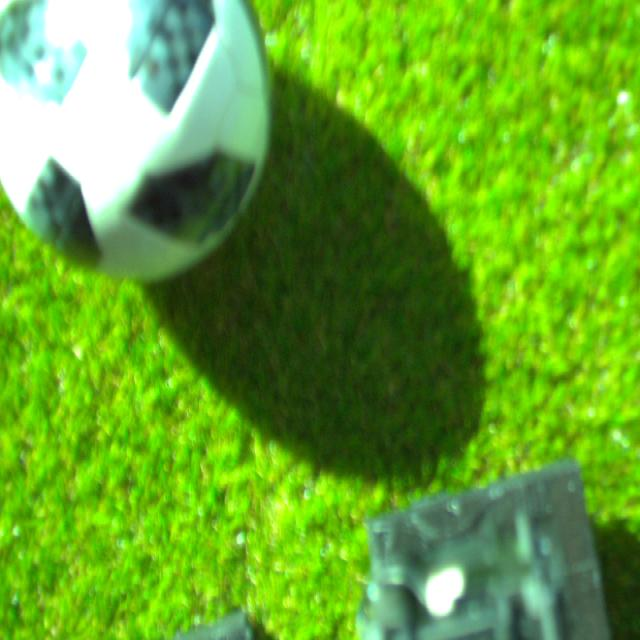ball: (0, 0, 270, 284)
